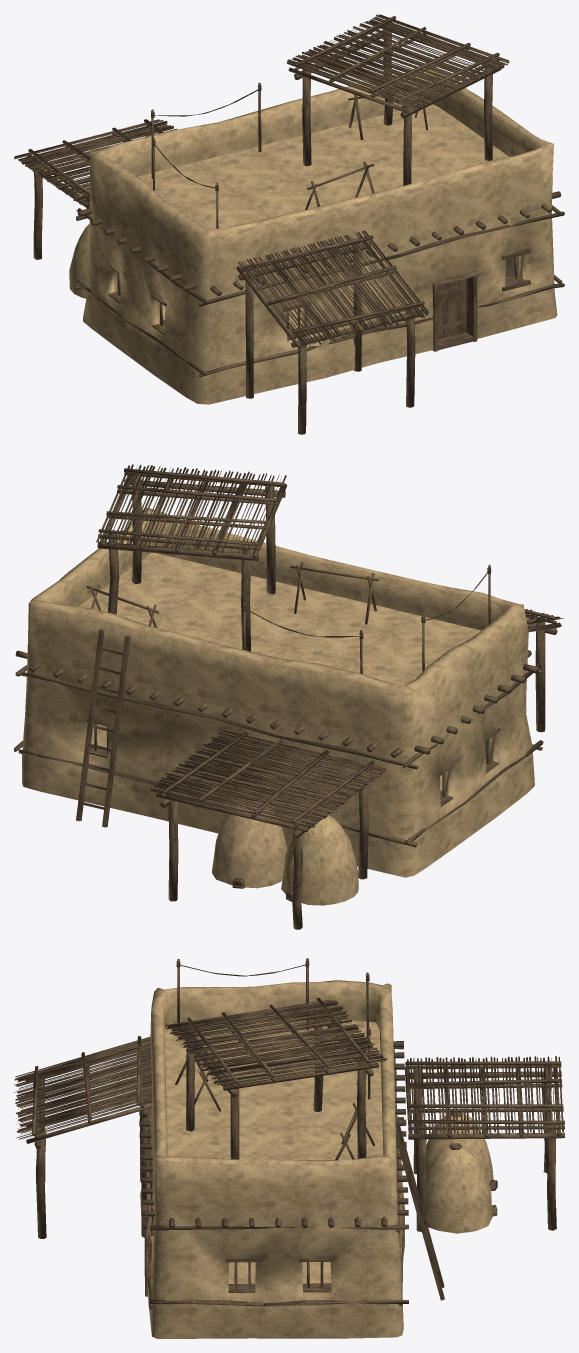
The model's file is adb_house_2.glb.
3 renders of one model, top to bottom at view 1: azimuth 30°, elevation 25°; view 2: azimuth 150°, elevation 25°; view 3: azimuth 270°, elevation 25°, orthographic. The views are drawn at different scales.
Visible parts, largest first — view 1: adb_house_2; view 2: adb_house_2; view 3: adb_house_2.
Part boxes in pixels (<box>): adb_house_2: <box>14,14,564,434</box>; adb_house_2: <box>14,464,563,929</box>; adb_house_2: <box>14,958,564,1338</box>.
Bounding box in the file's own units: 5.79 × 3.51 × 6.99.
3 materials, 3 textured.
